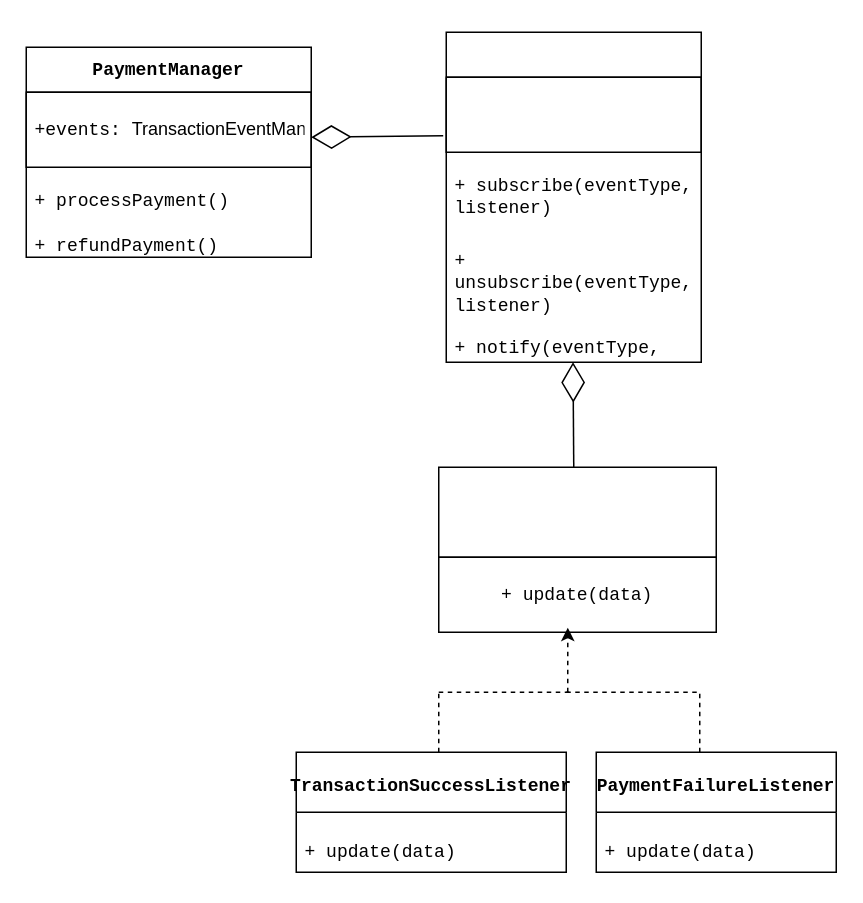
The diagram is 863 pixels wide and 903 high, and some of its shapes have lost their labels. Here are the shapes that lost their labels. From the top down, the box of each, then its label:
(445, 76, 701, 152): + listeners
(445, 31, 701, 362): TransactionEventManager
(437, 466, 716, 557): «interface» PaymentEventListener
